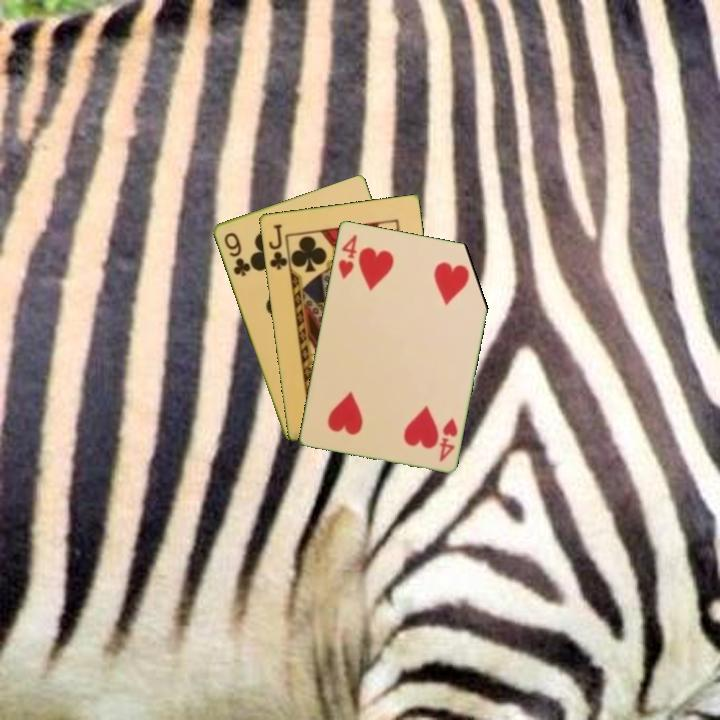4h: (334, 230, 360, 282), (435, 414, 460, 464)
9c: (220, 229, 252, 279)
Jc: (265, 220, 290, 272)
